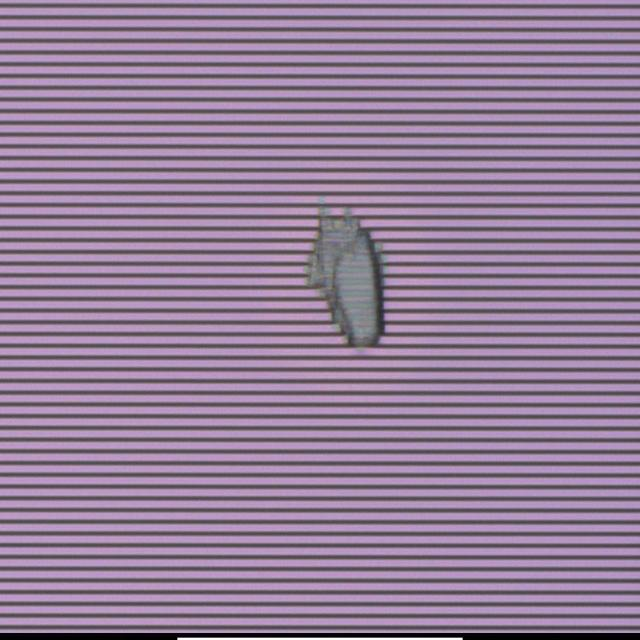03_intrusion: (308, 200, 400, 354)
